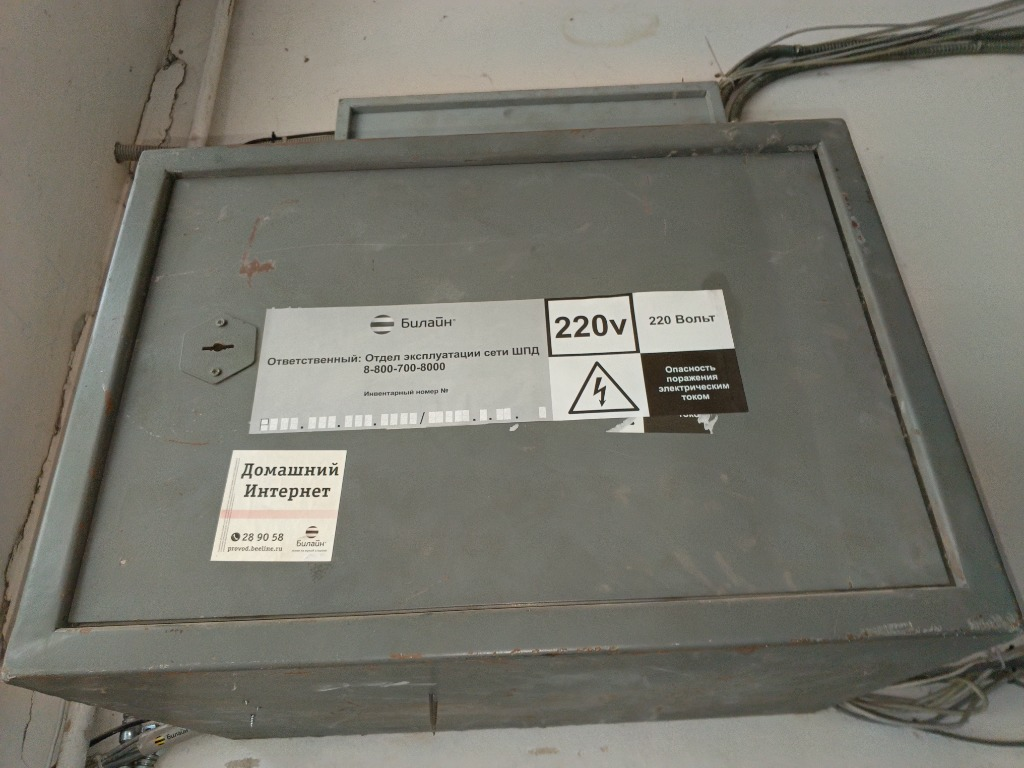e2-6u: (5, 115, 1015, 738)
